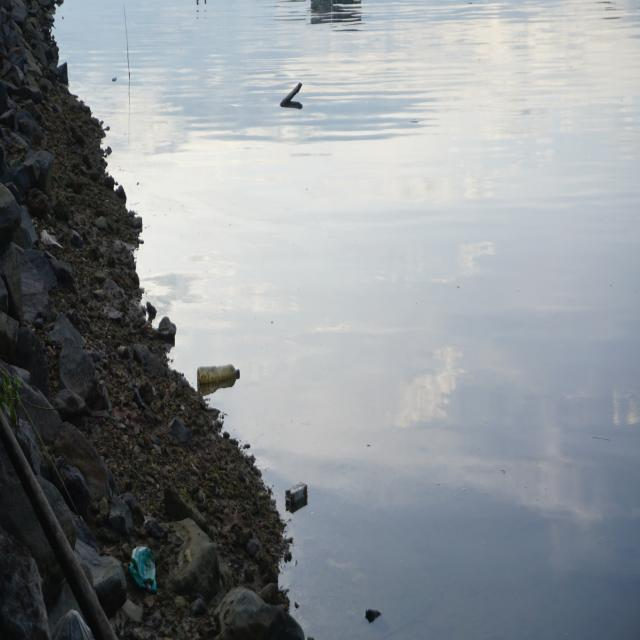Botol Plastik: (196, 352, 245, 395)
